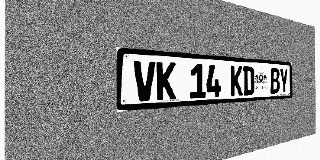1: (190, 63, 206, 98)
4: (206, 64, 221, 97)
B: (270, 68, 280, 94)
D: (243, 66, 254, 95)
K: (156, 61, 176, 100), (230, 66, 243, 96)
V: (133, 60, 156, 102)
Y: (280, 68, 288, 93)
